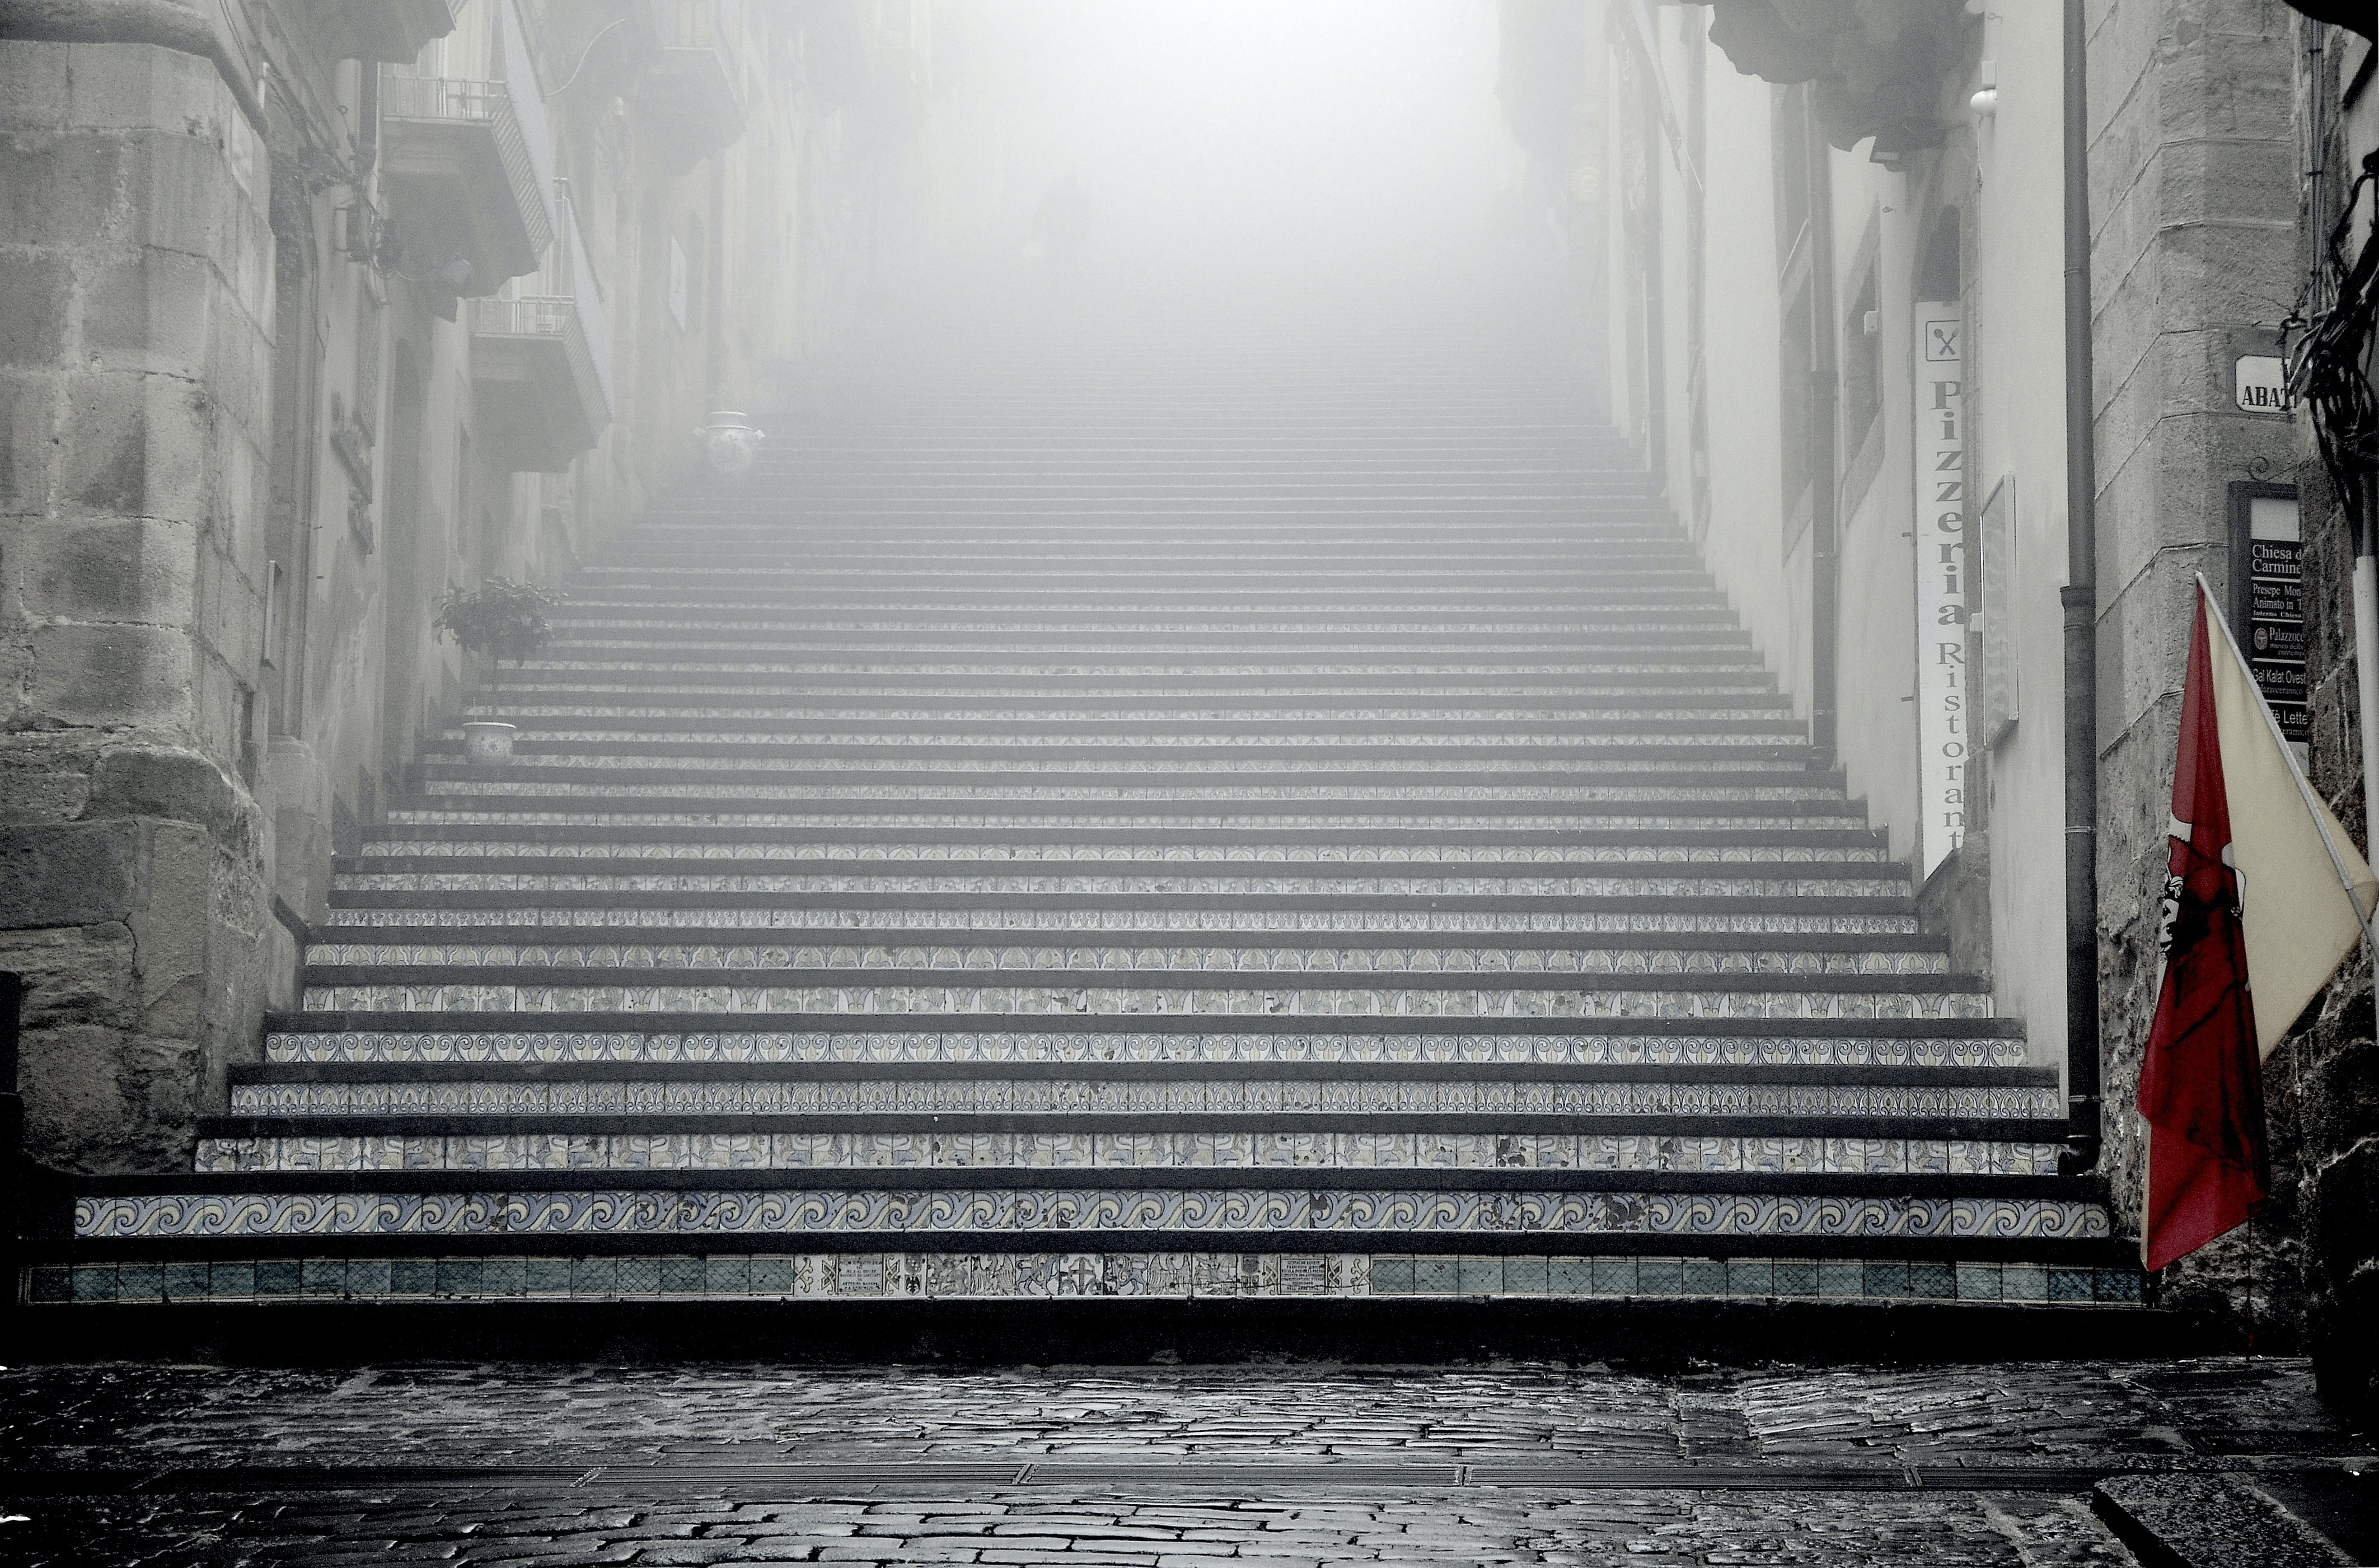upstairs: (680, 488, 1658, 1395)
